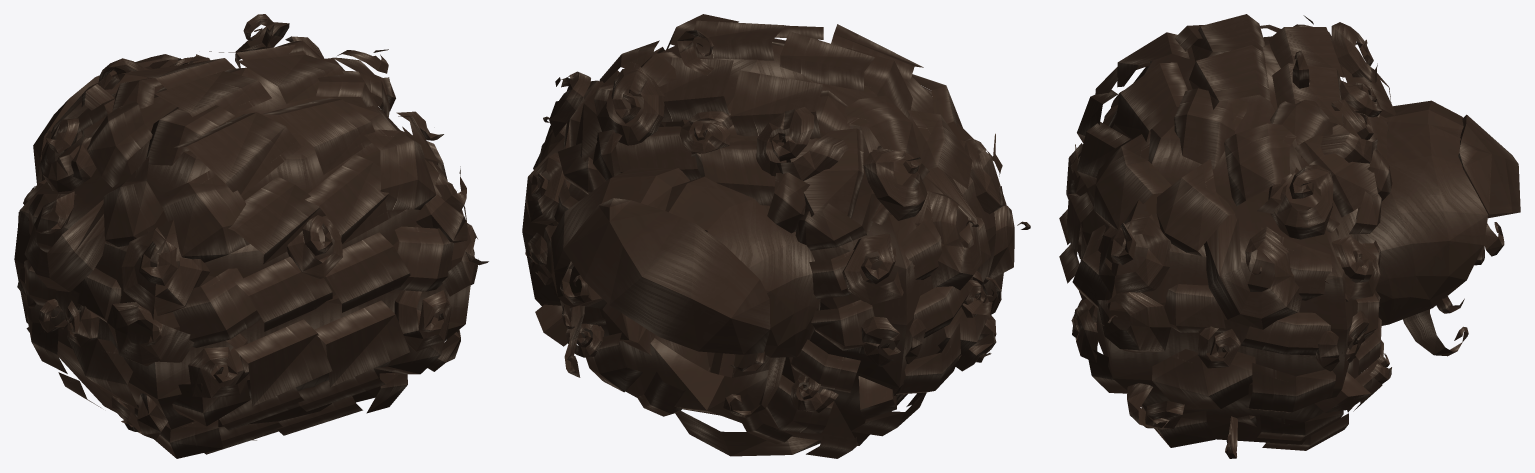
The picture shows the model from 3 angles, left to right: view 1: azimuth 30°, elevation 25°; view 2: azimuth 150°, elevation 25°; view 3: azimuth 270°, elevation 25°; orthographic projection. The views are drawn at different scales.
Parts seen in each view (by area): view 1: geometry_0; view 2: geometry_0; view 3: geometry_0.
Part boxes in pixels (<box>): geometry_0: <box>14,14,488,458</box>; geometry_0: <box>522,14,1030,458</box>; geometry_0: <box>1059,14,1520,458</box>.
Bounding box in the file's own units: 2.79 × 2.51 × 2.65.
1 material, 1 textured.
